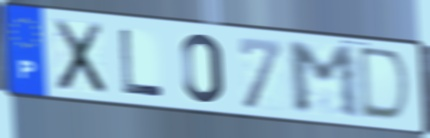0: (179, 31, 225, 106)
7: (236, 35, 287, 112)
D: (357, 44, 414, 126)
L: (117, 26, 165, 100)
M: (284, 41, 365, 122)
X: (50, 18, 109, 97)
